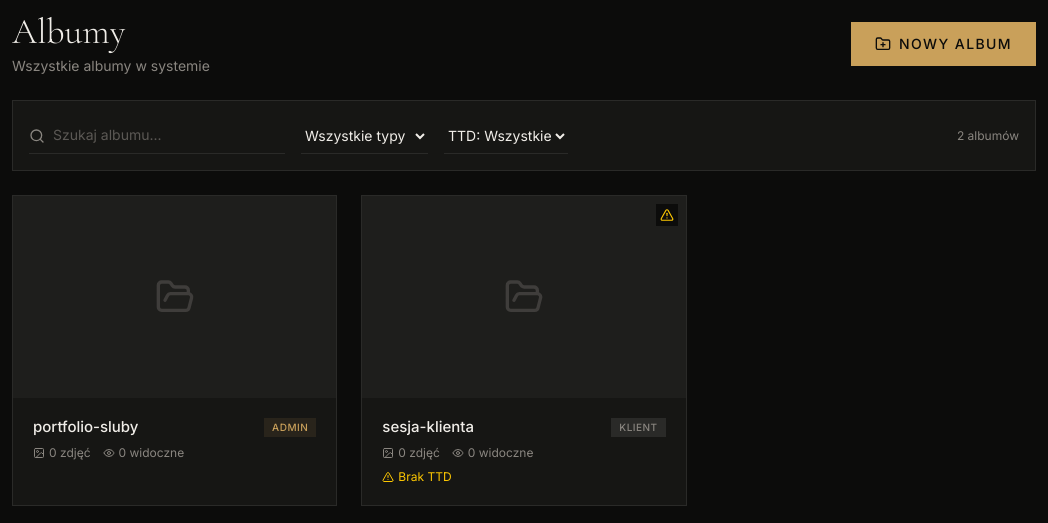
Test: AdminAlbums › The type filter separates portfolio albums from client albums
expect the heading "portfolio-sluby" is shown: met, box x1=33 y1=418 x2=138 y2=437
When / Then
Select "Administracyjne" in the 1st dropdown at (364, 136), box x1=301 y1=118 x2=428 y2=154
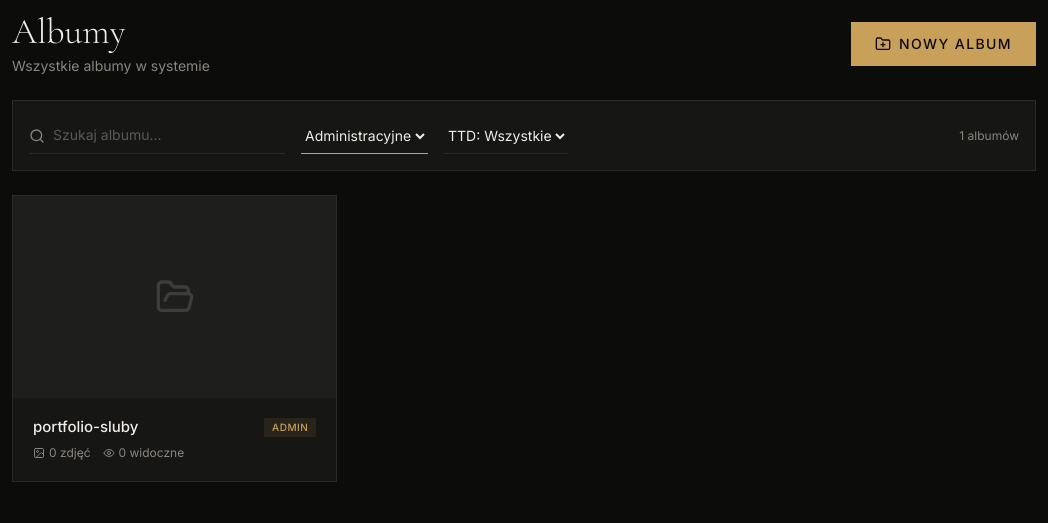
expect the heading "portfolio-sluby" is shown: met, box x1=33 y1=418 x2=138 y2=437
expect the link "sesja-klienta" is gone: met
Select "Klientów" in the 1st dropdown at (364, 136), box x1=301 y1=118 x2=428 y2=154
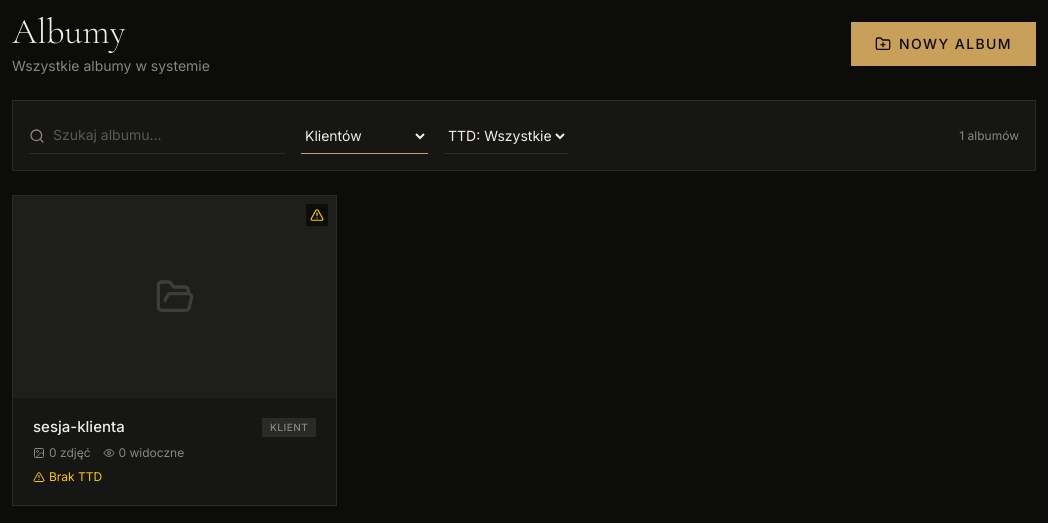
expect the heading "sesja-klienta" is shown: met, box x1=33 y1=418 x2=125 y2=437
expect the link "portfolio-sluby" is gone: met
